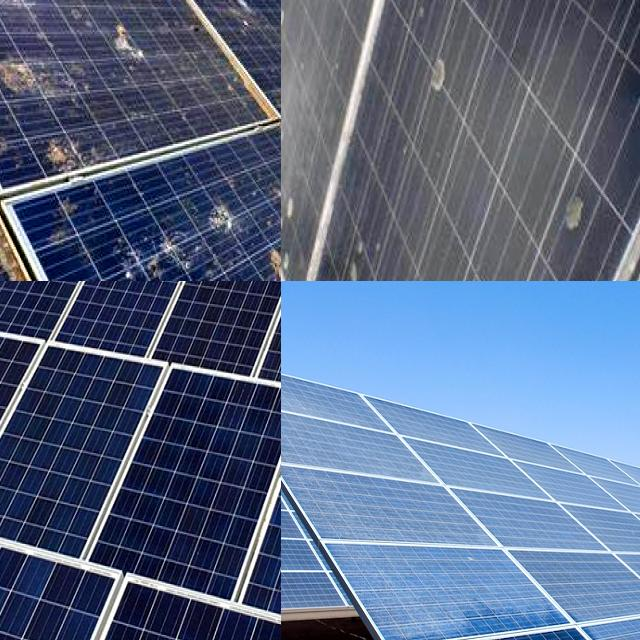bird: (107, 204, 187, 281), (104, 12, 169, 75), (36, 112, 96, 175), (0, 47, 49, 88), (0, 92, 26, 165), (222, 0, 267, 37), (210, 184, 241, 237), (0, 0, 31, 37), (91, 0, 131, 22), (149, 0, 183, 25)
crack: (0, 281, 281, 640), (32, 365, 281, 640), (12, 319, 191, 543), (6, 551, 281, 640)
dust: (372, 551, 544, 627), (498, 446, 624, 540), (396, 0, 464, 144), (308, 482, 450, 532), (281, 419, 412, 470), (524, 172, 622, 233), (561, 0, 640, 63), (281, 529, 330, 612), (443, 0, 531, 46), (281, 0, 325, 88), (281, 141, 308, 260), (303, 0, 399, 28), (344, 227, 391, 281), (426, 450, 494, 480)
